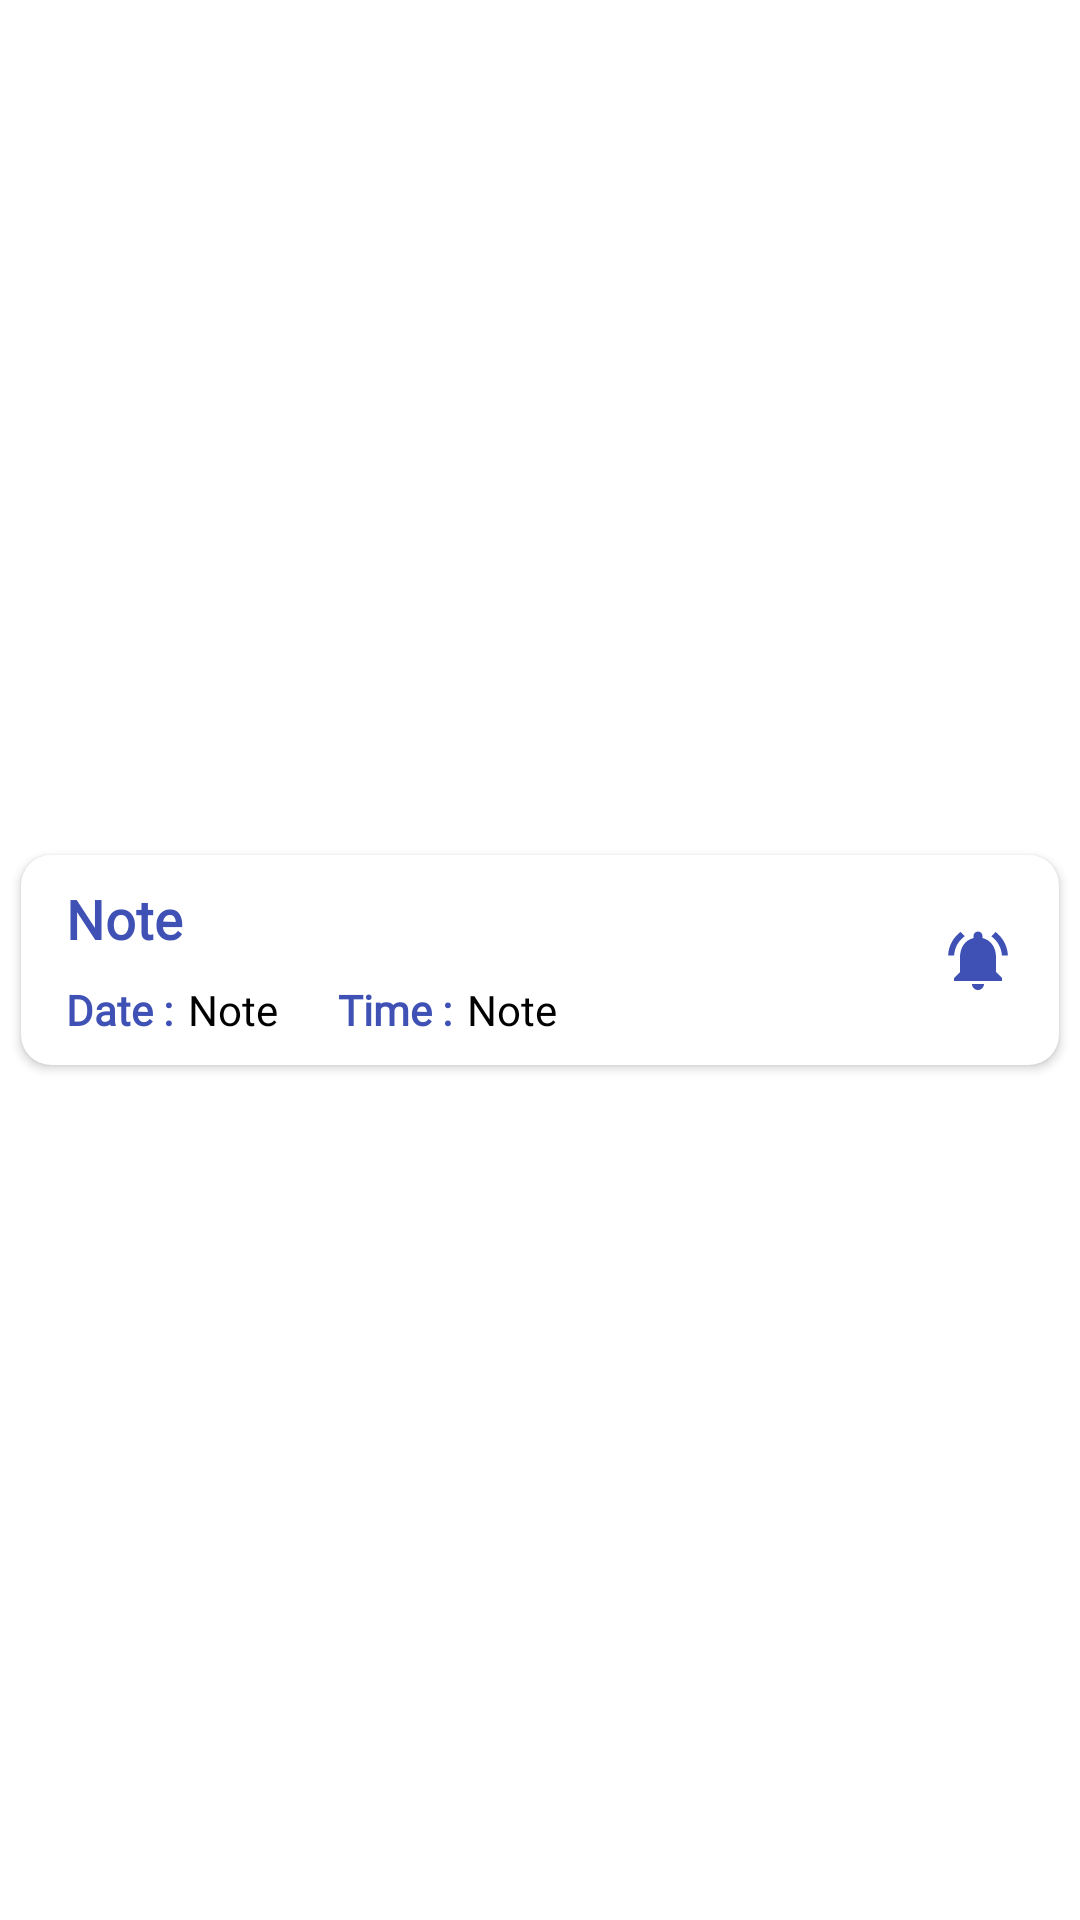

Icon bounding boxes for this 1080*1920 phone screenshot, format (x1, y1, x2, y2):
notifications: (948, 931, 1008, 990)
